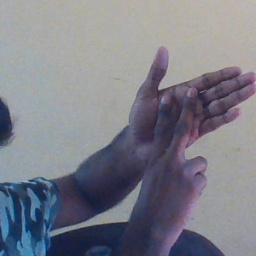N: (125, 44, 256, 194)
